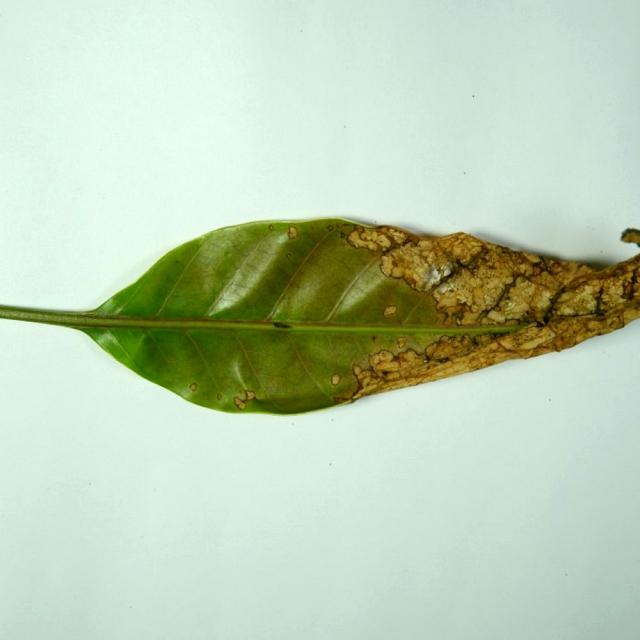Anthracnose: (375, 252, 442, 311), (493, 278, 548, 322), (432, 268, 487, 312), (552, 281, 604, 316), (348, 359, 388, 397), (496, 326, 552, 351), (426, 335, 476, 361), (434, 234, 482, 261), (348, 226, 397, 252), (597, 274, 632, 308), (497, 250, 533, 276), (368, 348, 403, 374), (570, 321, 608, 344), (547, 261, 585, 282), (530, 271, 561, 293), (399, 349, 422, 367), (382, 304, 401, 325), (380, 255, 397, 275), (620, 228, 640, 245), (425, 342, 439, 358), (352, 363, 365, 378), (549, 262, 565, 273), (287, 225, 298, 239), (244, 389, 255, 399), (397, 337, 407, 348), (333, 396, 348, 403), (189, 382, 198, 392), (326, 224, 335, 231)
Mango: (0, 218, 639, 418)
